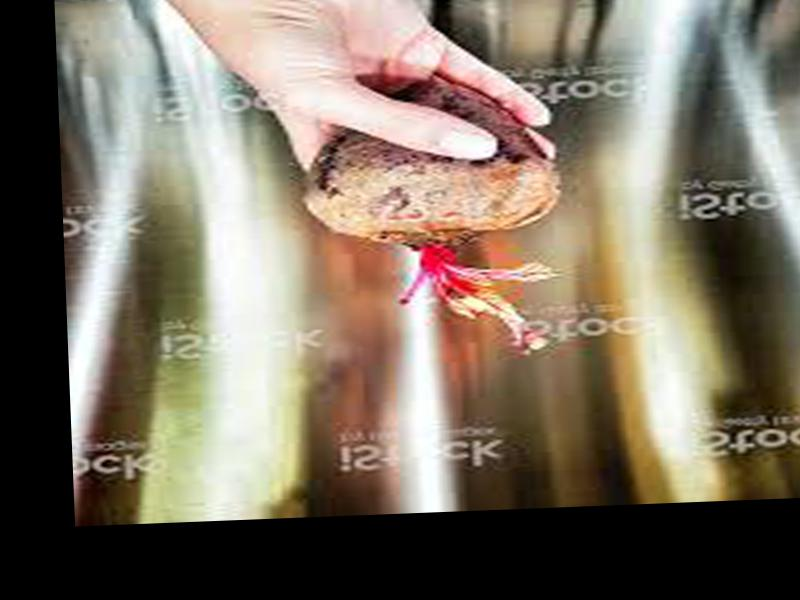Beet: (303, 74, 566, 355)
